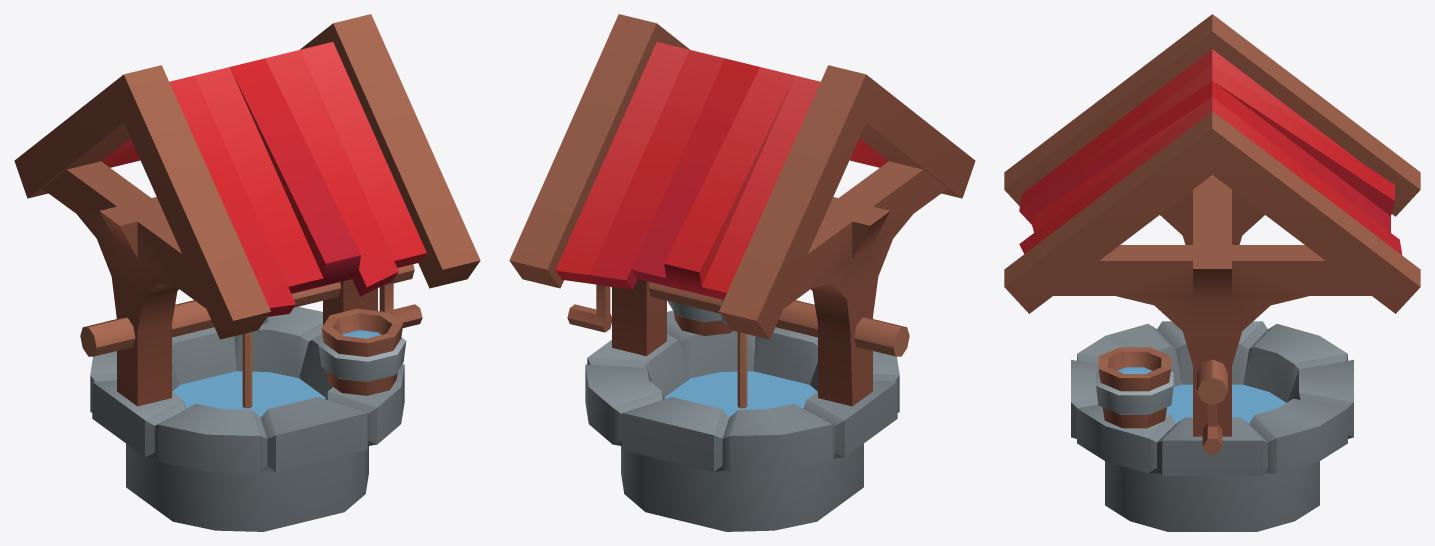
The model's file is kk_well.glb.
The picture shows the model from 3 angles, left to right: view 1: azimuth 30°, elevation 25°; view 2: azimuth 150°, elevation 25°; view 3: azimuth 270°, elevation 25°; orthographic projection. The views are drawn at different scales.
Parts seen in each view (by area): view 1: building_well_red; view 2: building_well_red; view 3: building_well_red.
Boxes of the visible parts, <box> form: building_well_red: <box>14,14,480,531</box>; building_well_red: <box>509,14,975,531</box>; building_well_red: <box>1004,14,1420,531</box>.
Size of the model in its own units: 0.6518 by 0.826 by 0.7507.
1 material, 1 textured.
